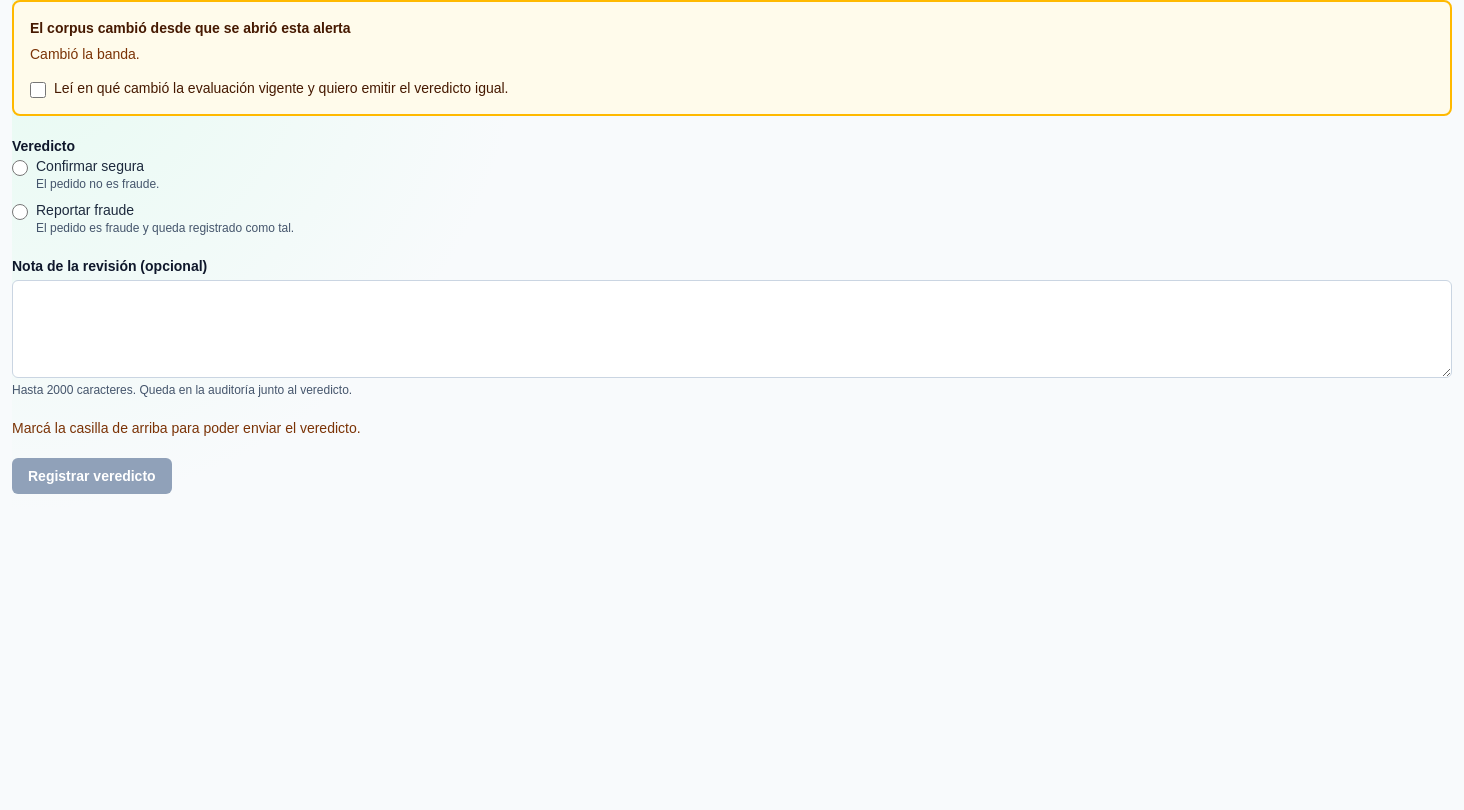
Scenario: formulario de revisión › mantiene marcado el reconocimiento tras un conflicto
Step 1. Click the radio button labelled "Reportar fraude" → (20, 212), box [12,204,28,220]
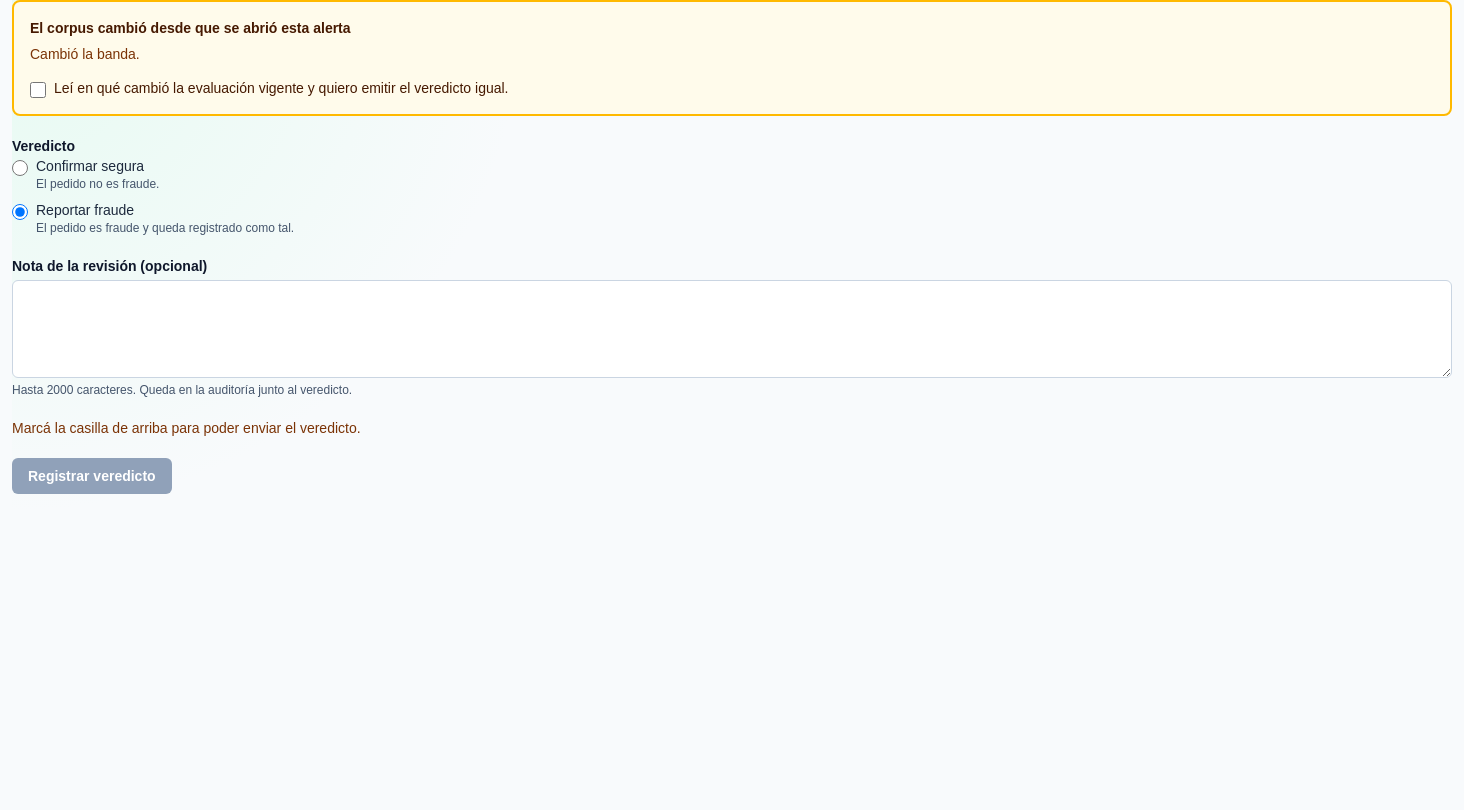
Step 2. Click the checkbox → (38, 90), box [30,82,46,98]
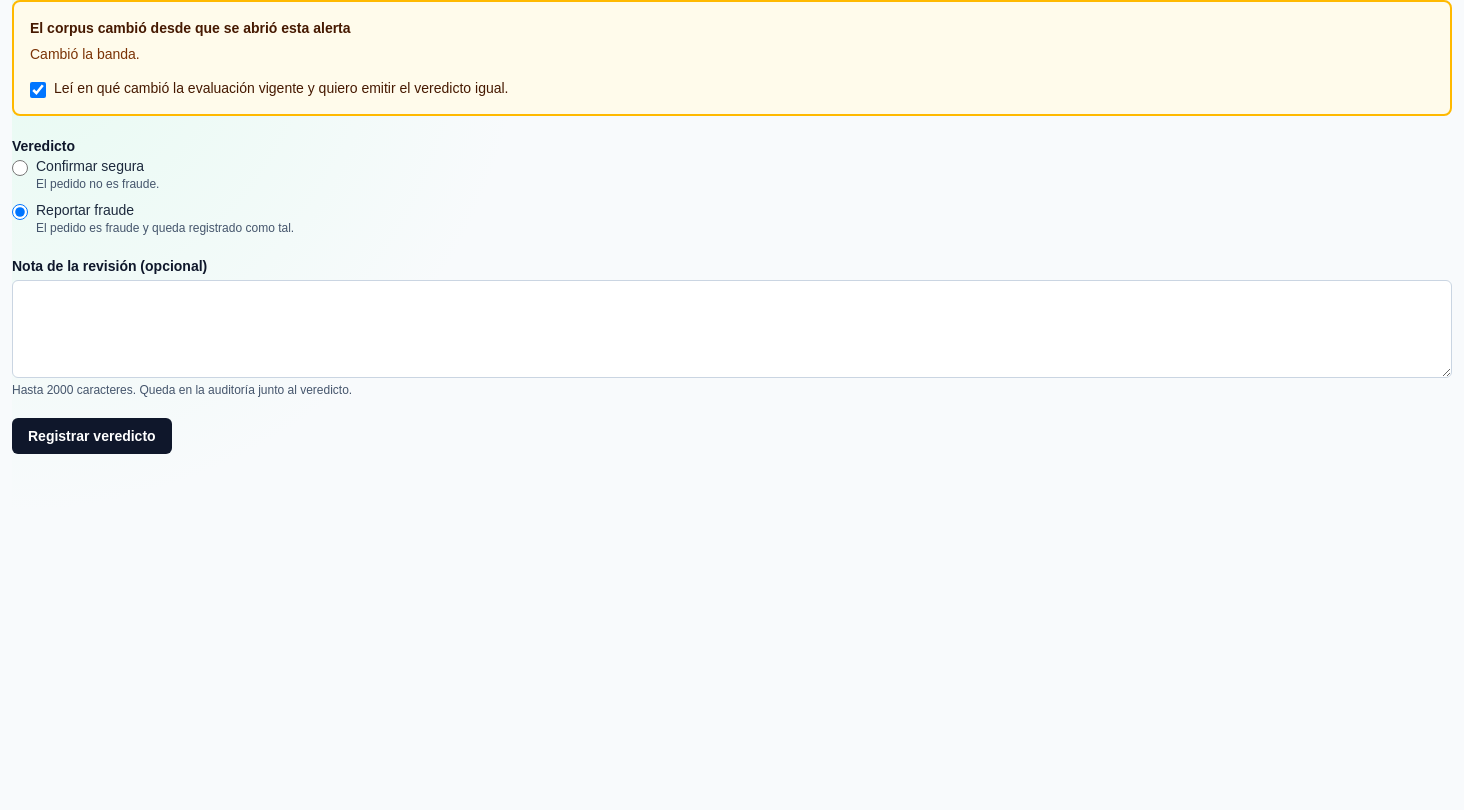
Step 3. Submit the form named "Registrar veredicto", box [12,0,1452,454]
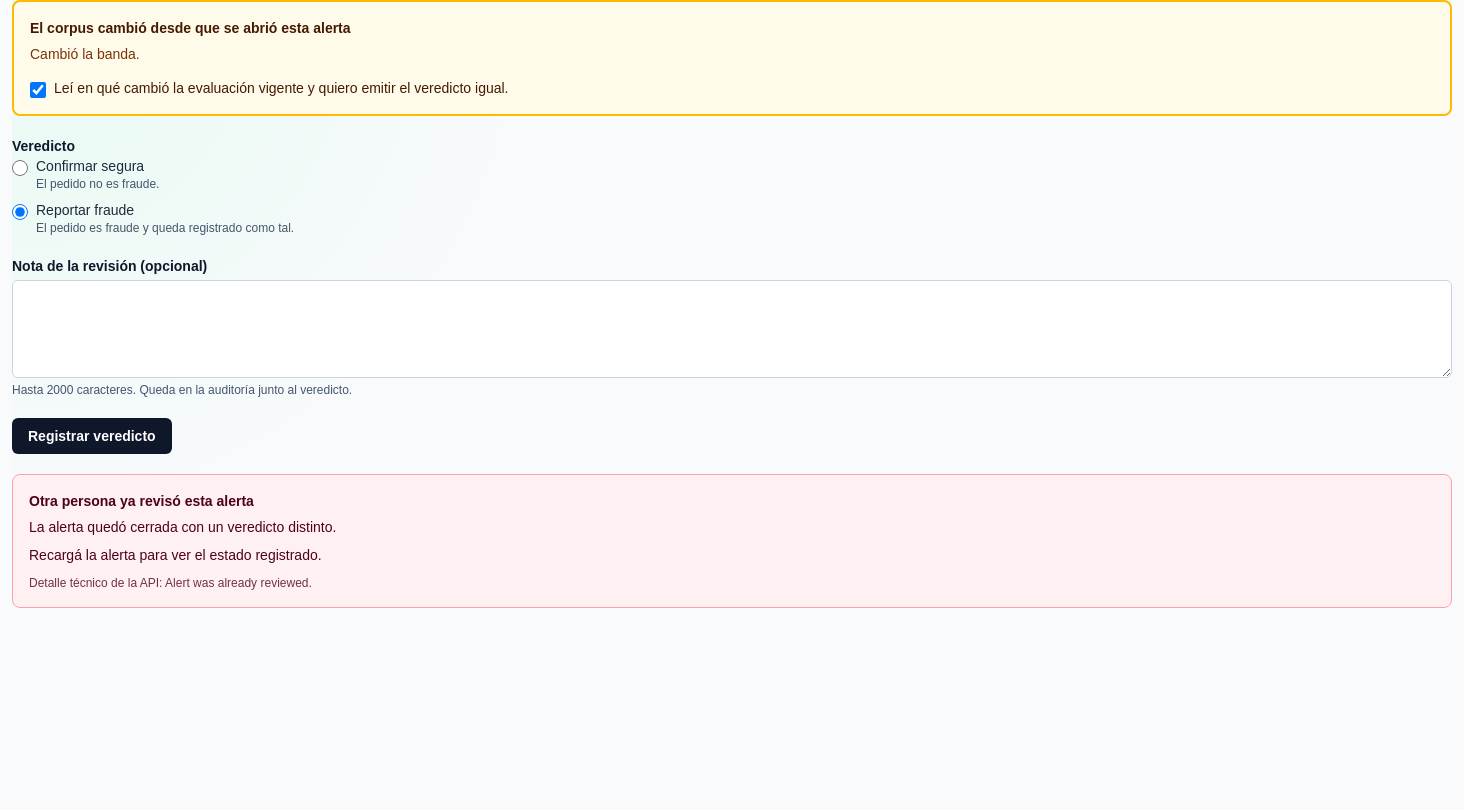
Check: the checkbox is checked, box [30,82,46,98]
Check: the message is shown, box [12,474,1452,608]
